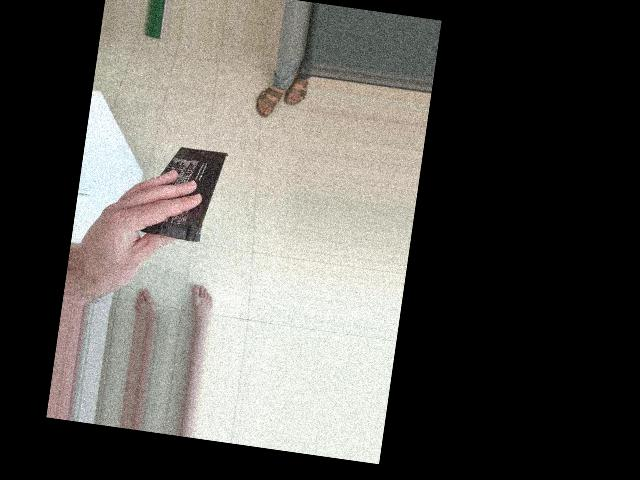chocolate: (189, 115, 307, 215)
